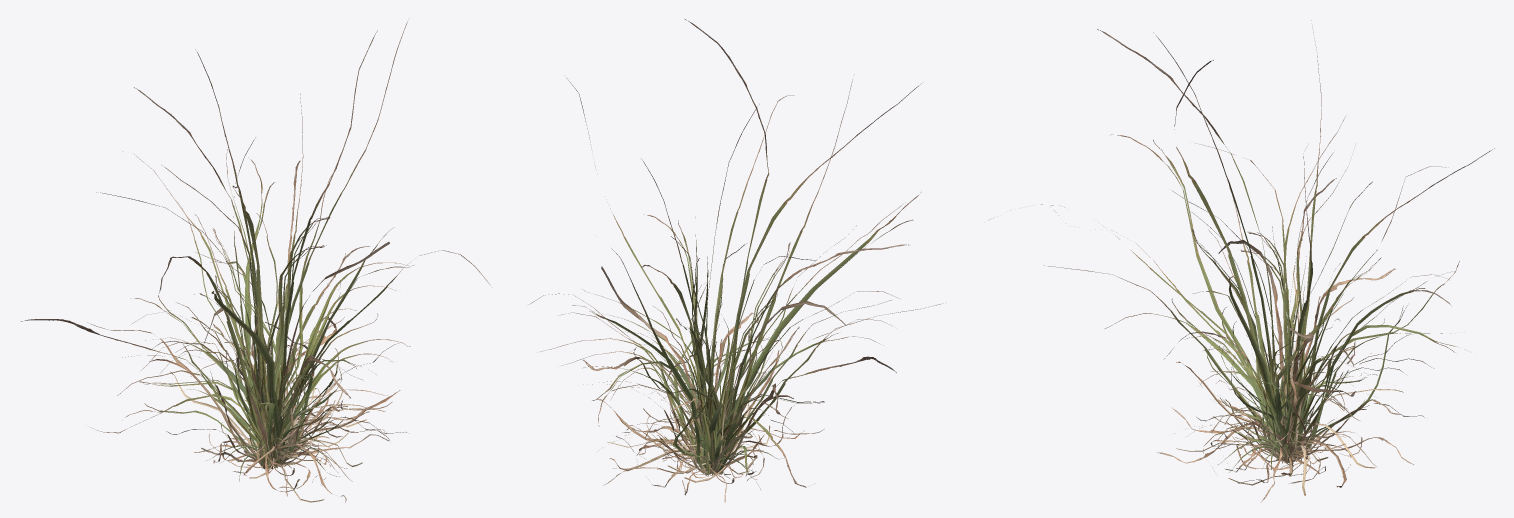
The model's file is grass_medium_02.glb.
The picture shows the model from 3 angles, left to right: view 1: azimuth 30°, elevation 25°; view 2: azimuth 150°, elevation 25°; view 3: azimuth 270°, elevation 25°; orthographic projection. The views are drawn at different scales.
Visible parts, largest first — view 1: grass_medium_02_e, grass_medium_02_d, grass_medium_02_c, grass_medium_02_b, grass_medium_02_a; view 2: grass_medium_02_e, grass_medium_02_d, grass_medium_02_c, grass_medium_02_b, grass_medium_02_a; view 3: grass_medium_02_e, grass_medium_02_d, grass_medium_02_c, grass_medium_02_b, grass_medium_02_a.
Boxes of the visible parts, x1,y1,x2,y2 form: grass_medium_02_e: (21,21,490,488); grass_medium_02_d: (117,147,414,502); grass_medium_02_c: (175,213,396,482); grass_medium_02_b: (221,269,400,481); grass_medium_02_a: (207,313,341,476); grass_medium_02_e: (529,19,921,495); grass_medium_02_d: (540,225,940,502); grass_medium_02_c: (561,217,891,472); grass_medium_02_b: (597,304,804,485); grass_medium_02_a: (622,324,757,479); grass_medium_02_e: (988,20,1494,463); grass_medium_02_d: (1044,181,1459,485); grass_medium_02_c: (1192,212,1467,502); grass_medium_02_b: (1176,256,1413,495); grass_medium_02_a: (1217,287,1345,464).
Size of the model in its own units: 0.3556 by 0.4053 by 0.4332.
1 material, 1 textured.
